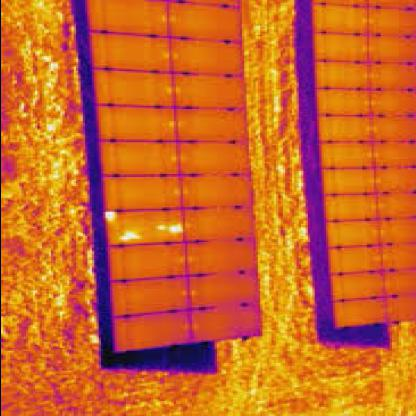Defects: (164, 224, 184, 234), (116, 233, 141, 240), (102, 213, 118, 221)
